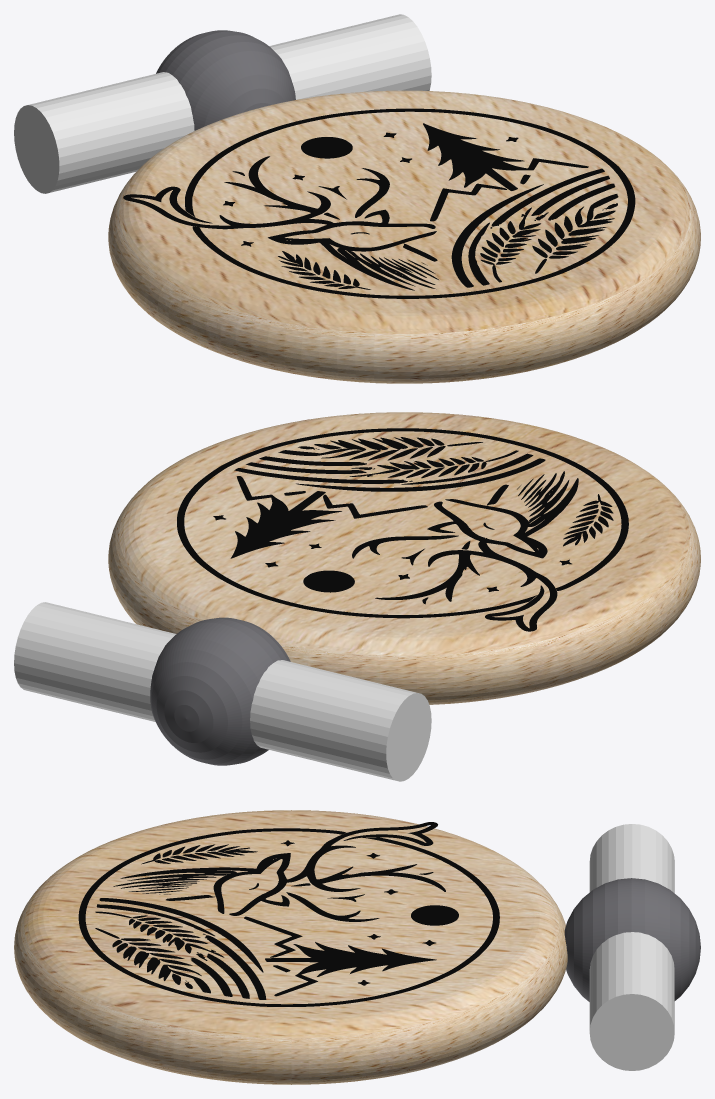
3 renders of one model, top to bottom at view 1: azimuth 30°, elevation 25°; view 2: azimuth 150°, elevation 25°; view 3: azimuth 270°, elevation 25°, orthographic. The views are drawn at different scales.
Parts seen in each view (by area): view 1: Cylinder, Cylinder.001, Sphere, Curve.022, Curve.021, Curve.091, Curve.077, Curve.092, Curve.078; view 2: Cylinder, Cylinder.001, Sphere, Curve.022, Curve.021, Curve.091, Curve.077, Curve.092, Curve.078; view 3: Cylinder, Cylinder.001, Sphere, Curve.022, Curve.021, Curve.091, Curve.077, Curve.092, Curve.078, Curve.085, Curve.066, Curve.065 (+1 smaller).
Part boxes in pixels (box(x1,y1,x2,y2)): Cylinder: box(108, 90, 700, 383); Cylinder.001: box(14, 14, 431, 193); Sphere: box(156, 30, 295, 130); Curve.022: box(123, 156, 436, 290); Curve.021: box(185, 108, 635, 298); Curve.091: box(423, 123, 588, 190); Curve.077: box(451, 184, 543, 287); Curve.092: box(301, 137, 352, 158); Curve.078: box(491, 168, 604, 226); Cylinder: box(108, 412, 700, 704); Cylinder.001: box(14, 602, 431, 781); Sphere: box(150, 617, 290, 765); Curve.022: box(375, 471, 578, 631); Curve.021: box(177, 428, 628, 618); Curve.091: box(230, 476, 341, 558); Curve.077: box(296, 458, 545, 491); Curve.092: box(303, 570, 354, 592); Curve.078: box(234, 468, 407, 483); Cylinder: box(14, 810, 567, 1084); Cylinder.001: box(589, 824, 674, 1070); Sphere: box(564, 878, 700, 1001); Curve.022: box(113, 822, 445, 915); Curve.021: box(78, 828, 499, 1006); Curve.091: box(265, 942, 436, 996); Curve.077: box(99, 898, 263, 972); Curve.092: box(411, 905, 458, 925); Curve.078: box(205, 935, 266, 999); Curve.085: box(286, 892, 379, 921); Curve.066: box(96, 904, 214, 936); Curve.065: box(158, 964, 210, 993).
Bounding box in the file's own units: 0.04 × 0.01 × 0.0495.
74 materials, 1 textured.
